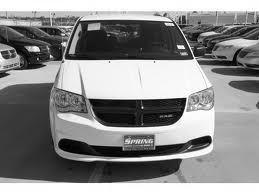car: (51, 15, 217, 164)
